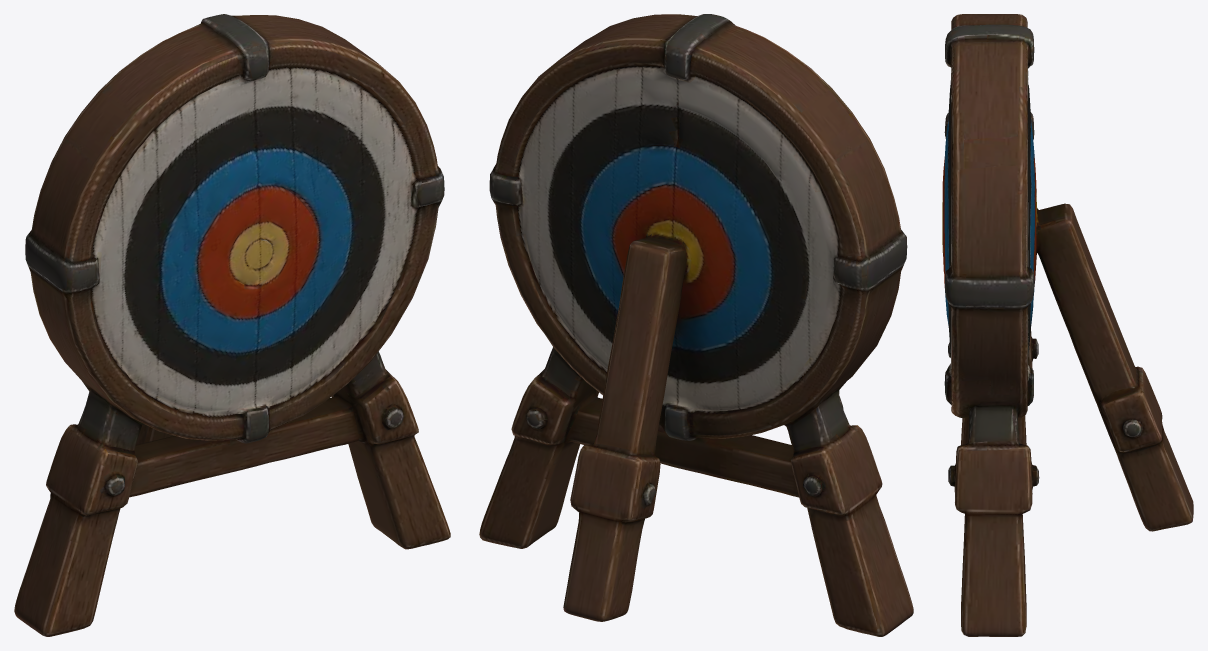
Rendered from wooden-archery-target-512-2500poly.glb.
The picture shows the model from 3 angles, left to right: view 1: azimuth 30°, elevation 25°; view 2: azimuth 150°, elevation 25°; view 3: azimuth 270°, elevation 25°; orthographic projection. The views are drawn at different scales.
Visible parts, largest first — view 1: tripo_node_862268f9-b0d6-4484-9c3b-63d2d03eef1b; view 2: tripo_node_862268f9-b0d6-4484-9c3b-63d2d03eef1b; view 3: tripo_node_862268f9-b0d6-4484-9c3b-63d2d03eef1b.
Part boxes in pixels (left/top/right/bottom): tripo_node_862268f9-b0d6-4484-9c3b-63d2d03eef1b: left=14, top=14, right=450, bottom=636; tripo_node_862268f9-b0d6-4484-9c3b-63d2d03eef1b: left=479, top=14, right=913, bottom=636; tripo_node_862268f9-b0d6-4484-9c3b-63d2d03eef1b: left=942, top=14, right=1193, bottom=636.
Bounding box in the file's own units: 0.756 × 0.9795 × 0.4308.
Materials: 1 (1 with a texture image).
